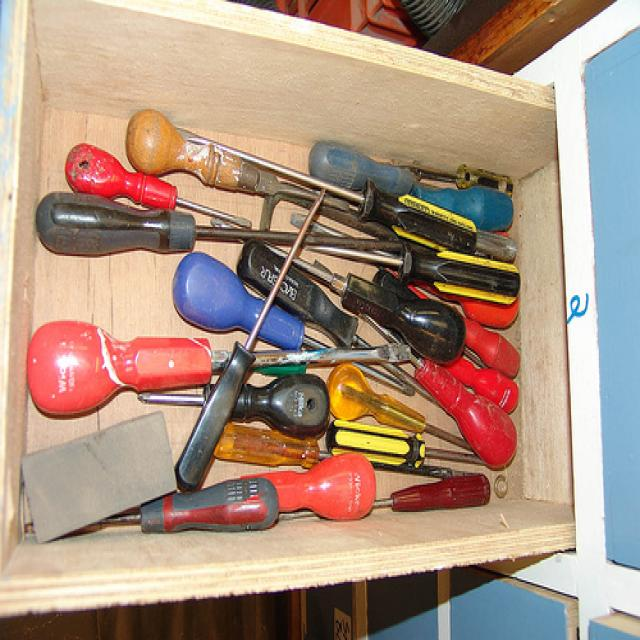Screwdriver: (167, 185, 334, 490), (164, 110, 483, 256), (21, 317, 427, 423), (252, 218, 472, 371), (21, 183, 424, 262), (64, 133, 257, 233), (48, 473, 280, 546), (273, 464, 517, 530)
